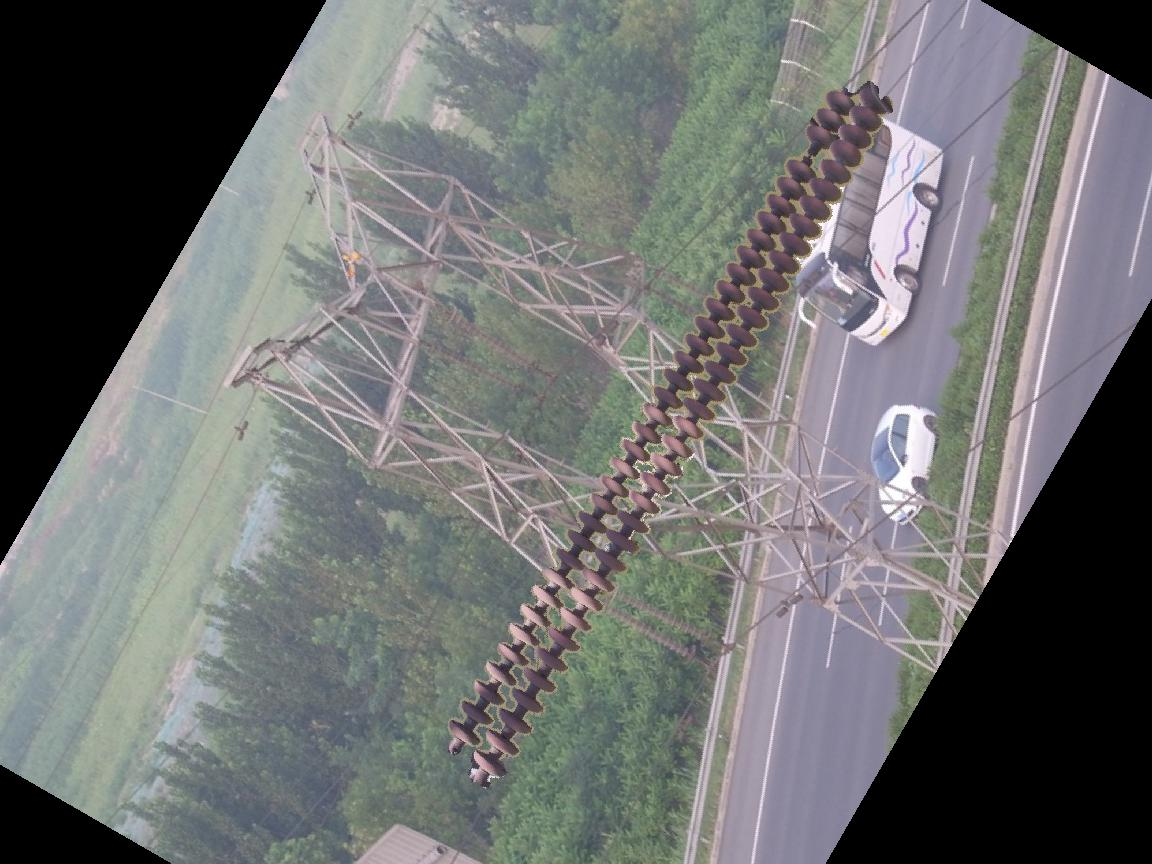insulator: (437, 79, 894, 789), (424, 303, 544, 396), (593, 584, 712, 666)
insulator_stringdrop: (782, 124, 837, 185)
